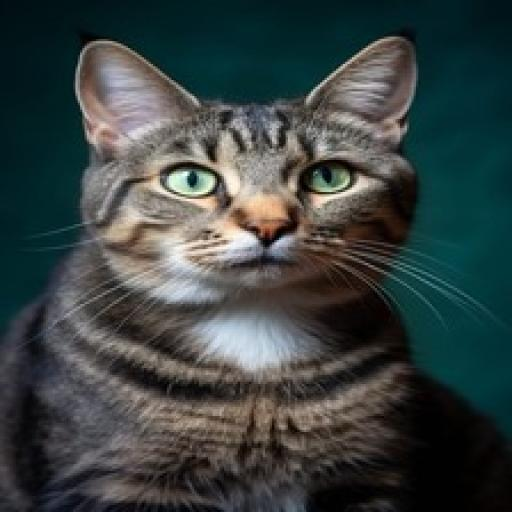cat: (4, 17, 458, 512)
